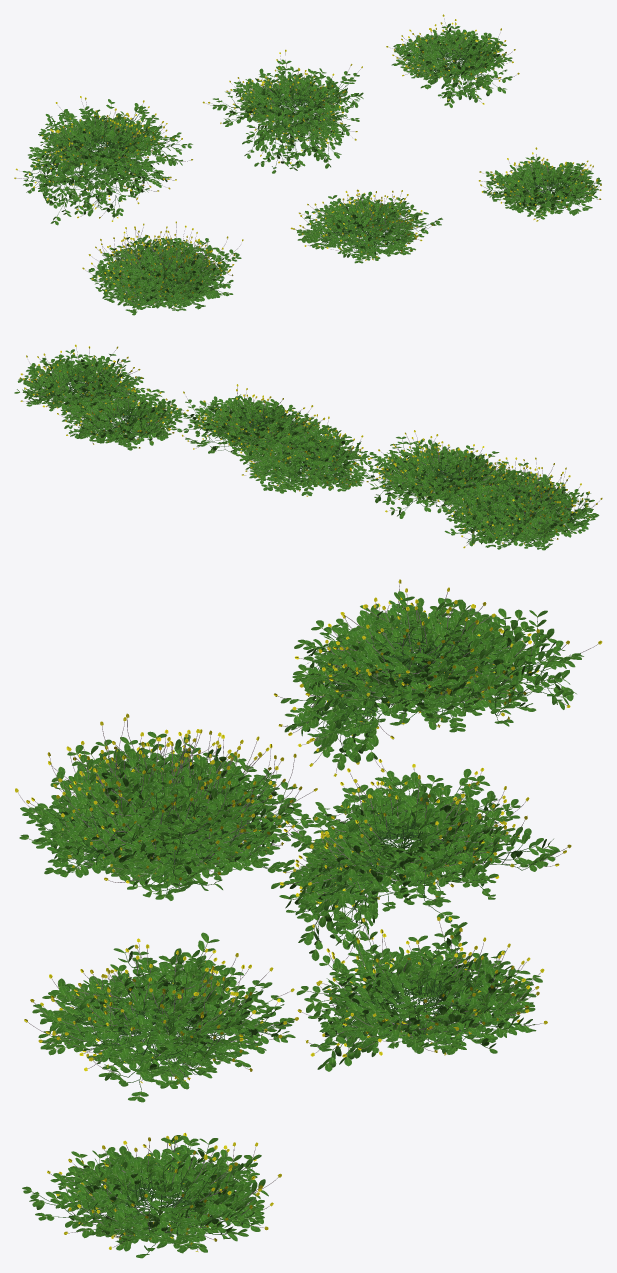
The model's file is Arachis_repens.fbx.
3 views of the same model, one above another, from view 1: azimuth 30°, elevation 25°; view 2: azimuth 150°, elevation 25°; view 3: azimuth 270°, elevation 25° (orthographic). The views are drawn at different scales.
Visible parts, largest first — view 1: Arachis_repens_01, Arachis_repens_02, Arachis_repens_06, Arachis_repens_05, Arachis_repens_03, Arachis_repens_04; view 2: Arachis_repens_01, Arachis_repens_02, Arachis_repens_06, Arachis_repens_03, Arachis_repens_05, Arachis_repens_04; view 3: Arachis_repens_06, Arachis_repens_01, Arachis_repens_02, Arachis_repens_05, Arachis_repens_03, Arachis_repens_04.
Part boxes in pixels (x1=…): Arachis_repens_01: x1=14, y1=96, x2=192, y2=225; Arachis_repens_02: x1=202, y1=49, x2=363, y2=173; Arachis_repens_06: x1=82, y1=221, x2=243, y2=315; Arachis_repens_05: x1=290, y1=189, x2=442, y2=263; Arachis_repens_03: x1=386, y1=14, x2=519, y2=107; Arachis_repens_04: x1=478, y1=147, x2=601, y2=221; Arachis_repens_01: x1=350, y1=430, x2=546, y2=548; Arachis_repens_02: x1=165, y1=384, x2=344, y2=468; Arachis_repens_06: x1=434, y1=457, x2=602, y2=550; Arachis_repens_03: x1=14, y1=344, x2=145, y2=417; Arachis_repens_05: x1=239, y1=414, x2=376, y2=496; Arachis_repens_04: x1=56, y1=383, x2=188, y2=450; Arachis_repens_06: x1=15, y1=713, x2=342, y2=900; Arachis_repens_01: x1=273, y1=579, x2=602, y2=776; Arachis_repens_02: x1=271, y1=759, x2=571, y2=963; Arachis_repens_05: x1=24, y1=932, x2=298, y2=1102; Arachis_repens_03: x1=296, y1=917, x2=547, y2=1071; Arachis_repens_04: x1=22, y1=1133, x2=281, y2=1258.
Bounding box in the file's own units: 427 × 100 × 216.
Materials: 5 (5 with a texture image).
